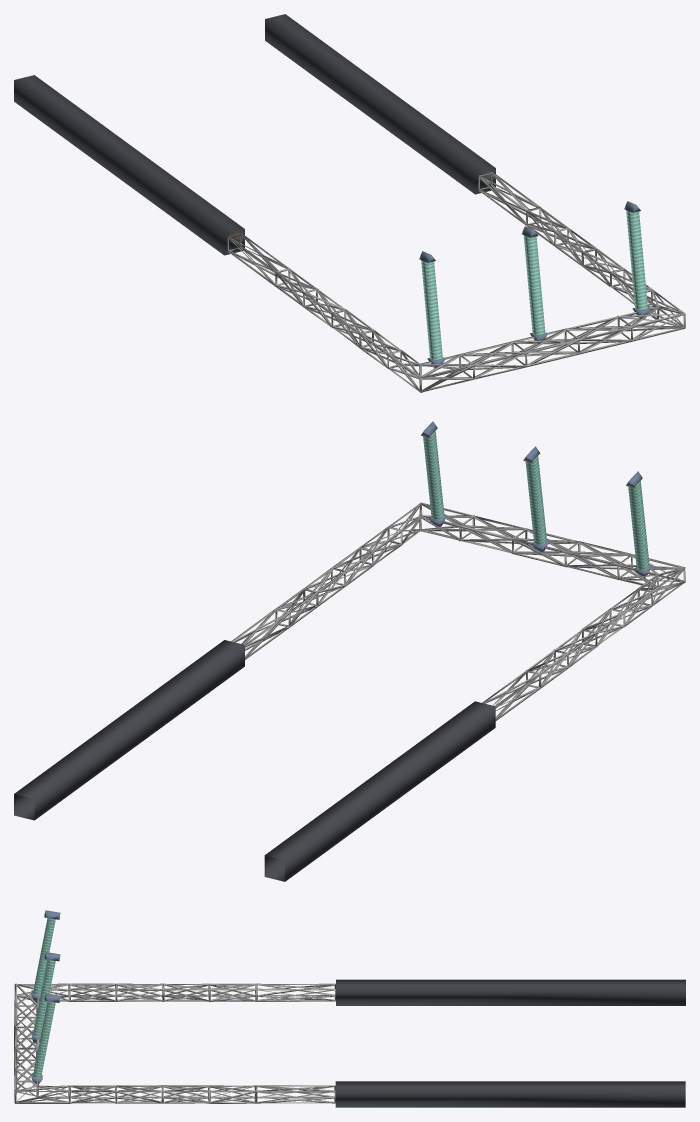
File: pylon_substation.obj
3 renders of one model, top to bottom at view 1: azimuth 30°, elevation 25°; view 2: azimuth 150°, elevation 25°; view 3: azimuth 270°, elevation 25°, orthographic. The views are drawn at different scales.
Parts seen in each view (by area): view 1: Pylon_Substation_LOD0; view 2: Pylon_Substation_LOD0; view 3: Pylon_Substation_LOD0.
Part boxes in pixels (x1,y1,x2,y2): Pylon_Substation_LOD0: [14, 14, 685, 392]; Pylon_Substation_LOD0: [14, 421, 685, 881]; Pylon_Substation_LOD0: [14, 910, 685, 1107].
Bounding box in the file's own units: 12.2 × 5.19 × 31.48.
Materials: 1 (1 with a texture image).
